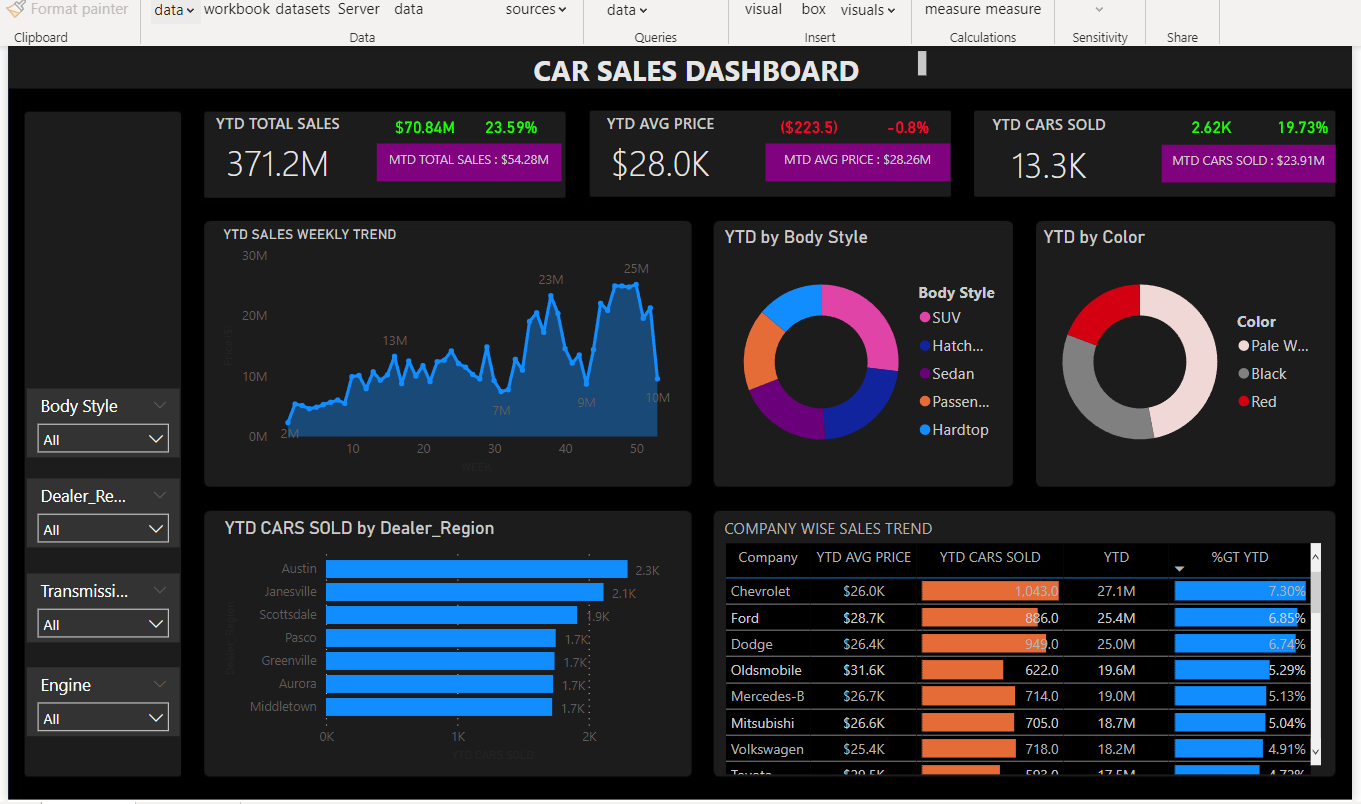

Layout of this report page (visuals, bound fields, positions):
{"tool":"powerbi","page":{"name":"Page 1","canvas":[1280,720],"ordinal":0},"visuals":[{"type":"card","title":"YTD TOTAL SALES","fields":{"Values":["car_data.YTD"]},"box":[163.3,63.1,188,76.8],"z":0},{"type":"card","fields":{"Values":["car_data.SALES DIFFRENC"]},"box":[349.8,63.1,94.7,30.2],"z":1000},{"type":"card","fields":{"Values":["car_data.YOY SALES GROWTH"]},"box":[432.2,63.1,94.7,30.2],"z":2000},{"type":"card","fields":{"Values":["car_data.MTD KPI"]},"box":[351.2,93.3,175.6,35.7],"z":3000},{"type":"card","title":"YTD AVG PRICE","fields":{"Values":["car_data.YTD AVG PRICE"]},"box":[526.8,63.1,188,76.8],"z":4000},{"type":"card","fields":{"Values":["car_data.AVRG DIFF PRICE"]},"box":[714.8,63.1,94.7,30.2],"z":5000},{"type":"card","fields":{"Values":["car_data.YOY AVG PRICE GROWTH"]},"box":[809.4,64.5,94.7,28.8],"z":6000},{"type":"card","fields":{"Values":["car_data.MTD AVG PRICE KPI"]},"box":[721.6,93.3,175.6,35.7],"z":7000},{"type":"card","title":"YTD CARS SOLD","fields":{"Values":["car_data.YTD CARS SOLD"]},"box":[897.3,64.3,188,77.4],"z":8000},{"type":"card","fields":{"Values":["car_data.CARS SOLD DIIF"]},"box":[1098.4,63.1,95.2,30.9],"z":9000},{"type":"card","fields":{"Values":["car_data.YOY CARS SOLD GROTH"]},"box":[1185.3,63.1,95.2,30.9],"z":10000},{"type":"card","fields":{"Values":["car_data.MTD CARS SOLD KPI"]},"box":[1098.4,94,165.4,35.7],"z":11000},{"type":"areaChart","title":"YTD SALES WEEKLY TREND","fields":{"Y":["Sum(car_data.Price ($))"],"Category":["Calendar.WEEK"]},"box":[199.9,171.4,440.3,240.4],"z":12000},{"type":"donutChart","fields":{"Category":["car_data.Body Style"],"Y":["car_data.YTD"]},"box":[677.7,171.5,274.4,240.1],"z":13000},{"type":"donutChart","fields":{"Y":["car_data.YTD"],"Category":["car_data.Color"]},"box":[980.9,171.5,274.4,240.1],"z":14000},{"type":"clusteredBarChart","fields":{"Category":["car_data.Dealer_Region"],"Y":["car_data.YTD CARS SOLD"]},"box":[201.7,448.6,439,237.3],"z":15000},{"type":"tableEx","title":"COMPANY WISE SALES TREND","fields":{"Values":["car_data.Company","car_data.YTD AVG PRICE","car_data.YTD CARS SOLD","car_data.YTD","Divide(car_data.YTD, ScopedEval(car_data.YTD, []))"]},"box":[677.7,448.6,577.6,249.7],"z":16000},{"type":"textbox","box":[439,0,440.4,38.4],"z":17000},{"type":"slicer","fields":{"Values":["car_data.Body Style"]},"box":[17.8,326.5,145.4,65.9],"z":18000},{"type":"slicer","fields":{"Values":["car_data.Dealer_Region"]},"box":[17.8,411.6,145.4,65.9],"z":19000},{"type":"slicer","fields":{"Values":["car_data.Transmission"]},"box":[17.8,502.1,145.4,65.9],"z":20000},{"type":"slicer","fields":{"Values":["car_data.Engine"]},"box":[17.8,591.3,145.4,65.9],"z":21000}]}

Visuals, with their boxes on the page's 1280x720 design canvas (x1, y1, x2, y2). These are canvas units, not pixel positions in the 1361x804 screenshot, which may show the page scaled, cropped or inside an application window:
"YTD TOTAL SALES" card: bbox(163, 63, 351, 140)
card - car_data.SALES DIFFRENC: bbox(350, 63, 444, 93)
card - car_data.YOY SALES GROWTH: bbox(432, 63, 527, 93)
card - car_data.MTD KPI: bbox(351, 93, 527, 129)
"YTD AVG PRICE" card: bbox(527, 63, 715, 140)
card - car_data.AVRG DIFF PRICE: bbox(715, 63, 810, 93)
card - car_data.YOY AVG PRICE GROWTH: bbox(809, 64, 904, 93)
card - car_data.MTD AVG PRICE KPI: bbox(722, 93, 897, 129)
"YTD CARS SOLD" card: bbox(897, 64, 1085, 142)
card - car_data.CARS SOLD DIIF: bbox(1098, 63, 1194, 94)
card - car_data.YOY CARS SOLD GROTH: bbox(1185, 63, 1280, 94)
card - car_data.MTD CARS SOLD KPI: bbox(1098, 94, 1264, 130)
"YTD SALES WEEKLY TREND" areaChart: bbox(200, 171, 640, 412)
donutChart - car_data.Body Style x car_data.YTD: bbox(678, 172, 952, 412)
donutChart - car_data.YTD x car_data.Color: bbox(981, 172, 1255, 412)
clusteredBarChart - car_data.Dealer_Region x car_data.YTD CARS SOLD: bbox(202, 449, 641, 686)
"COMPANY WISE SALES TREND" tableEx: bbox(678, 449, 1255, 698)
textbox: bbox(439, 0, 879, 38)
slicer - car_data.Body Style: bbox(18, 326, 163, 392)
slicer - car_data.Dealer_Region: bbox(18, 412, 163, 478)
slicer - car_data.Transmission: bbox(18, 502, 163, 568)
slicer - car_data.Engine: bbox(18, 591, 163, 657)
